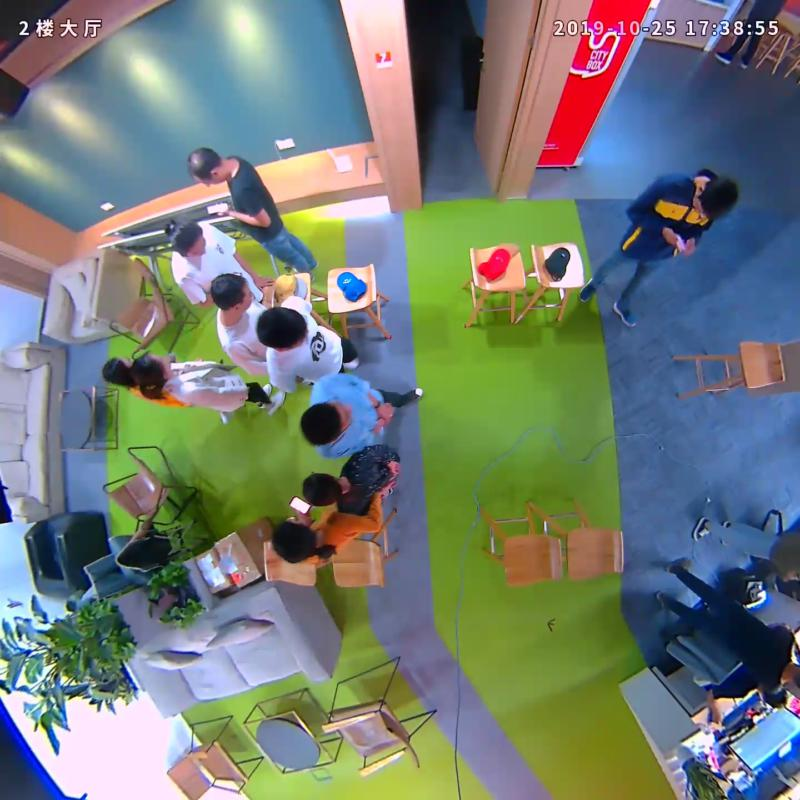head: (299, 400, 353, 447), (255, 306, 309, 351), (271, 521, 317, 564), (691, 177, 738, 218), (210, 273, 254, 311), (186, 147, 224, 187), (302, 471, 343, 508), (169, 220, 206, 259), (133, 351, 169, 387), (100, 356, 135, 390)
